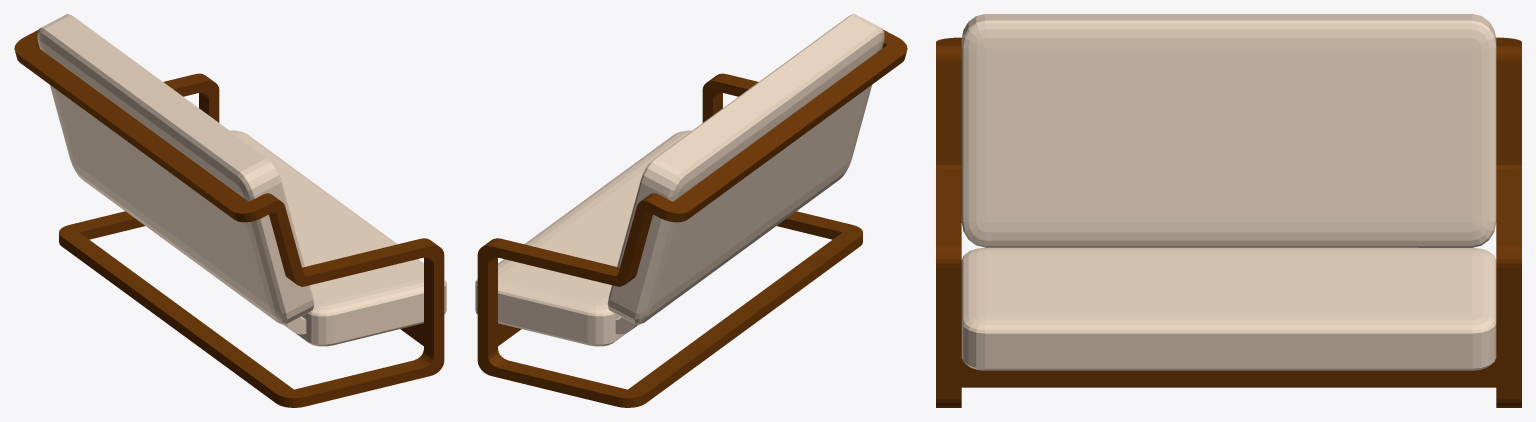
The model's file is sofa.glb.
The picture shows the model from 3 angles, left to right: view 1: azimuth 30°, elevation 25°; view 2: azimuth 150°, elevation 25°; view 3: azimuth 270°, elevation 25°; orthographic projection. The views are drawn at different scales.
Visible parts, largest first — view 1: Cube, Cube.002; view 2: Cube, Cube.002; view 3: Cube, Cube.002.
Boxes of the visible parts, bbox=[...] form: Cube: bbox=[37, 14, 446, 346]; Cube.002: bbox=[14, 30, 444, 407]; Cube: bbox=[475, 14, 884, 346]; Cube.002: bbox=[477, 30, 907, 407]; Cube: bbox=[961, 14, 1496, 370]; Cube.002: bbox=[936, 37, 1521, 407].
Bounding box in the file's own units: 2.51 × 2.57 × 4.6.
Materials: 3 (3 with a texture image).
